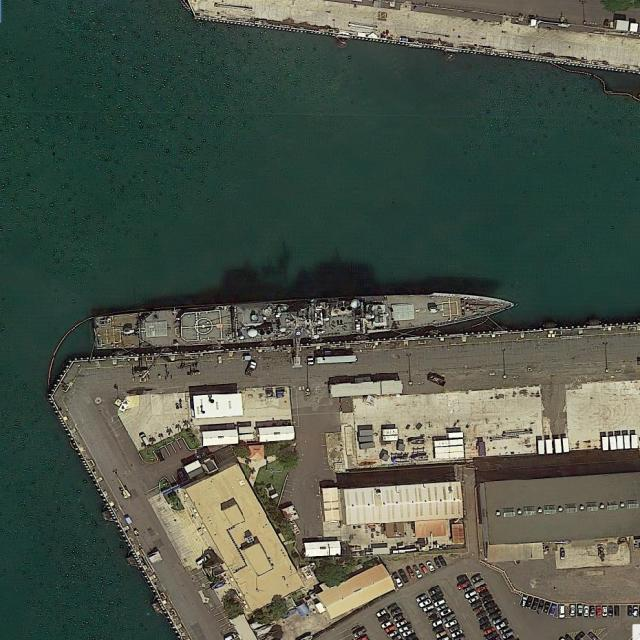Cruiser: (93, 286, 513, 351)
